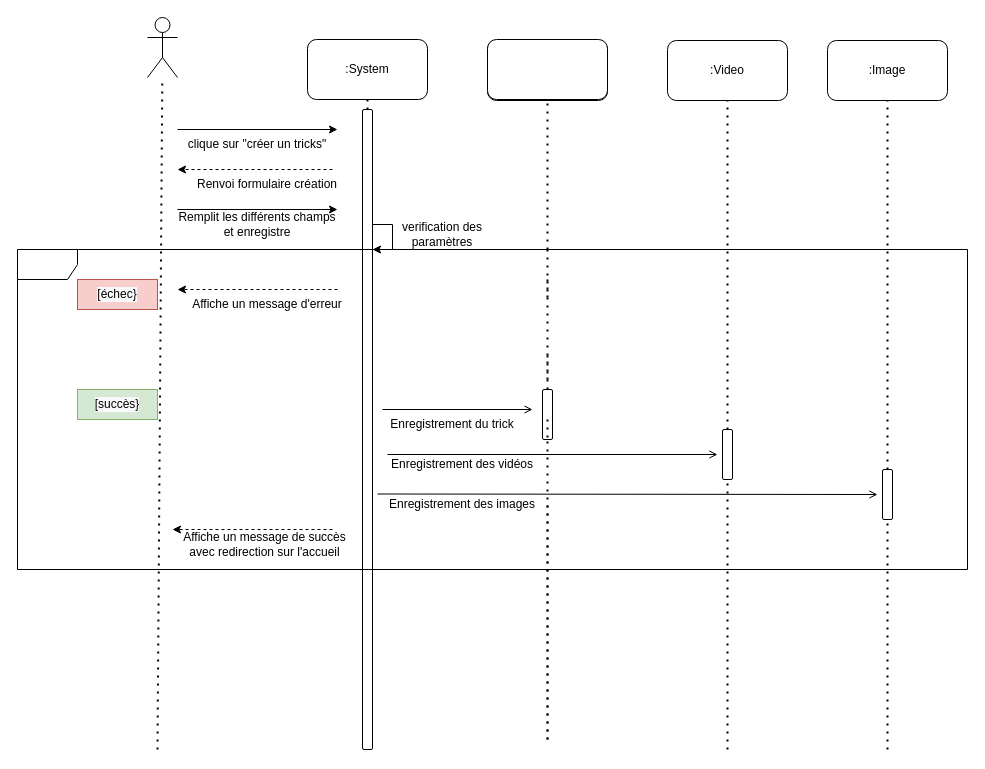
This 985x769 diagram has some shape labels left out. Each missing label, with the box of its shape:
:trick: (486, 38, 608, 100)
Alt: (16, 248, 968, 570)
Utilisateur Authentifié: (146, 16, 178, 78)
